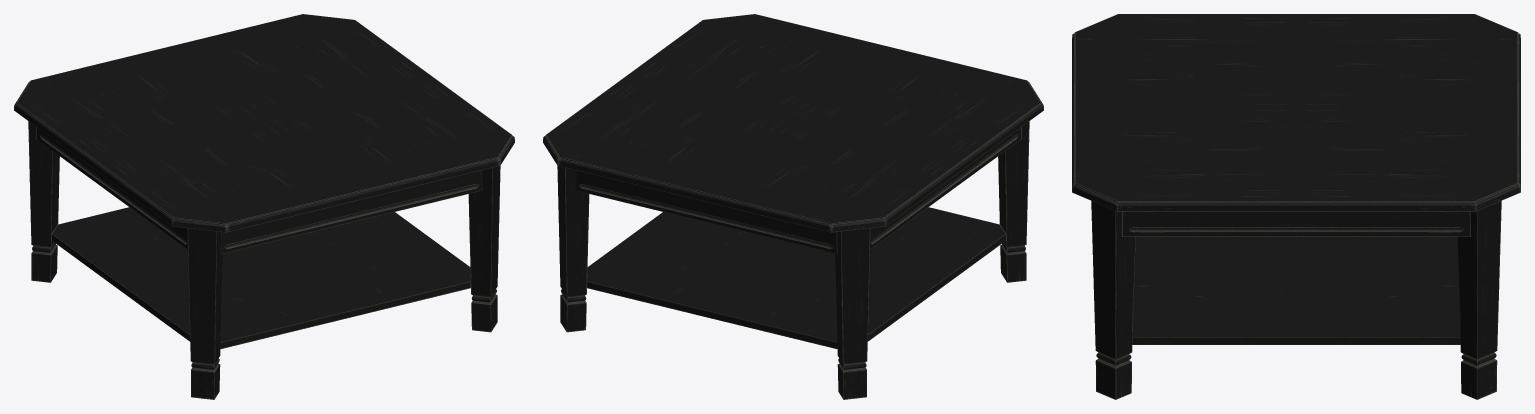
The model's file is example90.glb.
3 renders of one model, left to right at view 1: azimuth 30°, elevation 25°; view 2: azimuth 150°, elevation 25°; view 3: azimuth 270°, elevation 25°, orthographic. The views are drawn at different scales.
Visible parts, largest first — view 1: A395.wood.black; view 2: A395.wood.black; view 3: A395.wood.black.
Boxes of the visible parts, <box> form: A395.wood.black: <box>14,14,514,399</box>; A395.wood.black: <box>543,14,1043,399</box>; A395.wood.black: <box>1072,14,1520,399</box>.
Size of the model in its own units: 1 by 0.51 by 1.
1 material, 1 textured.
